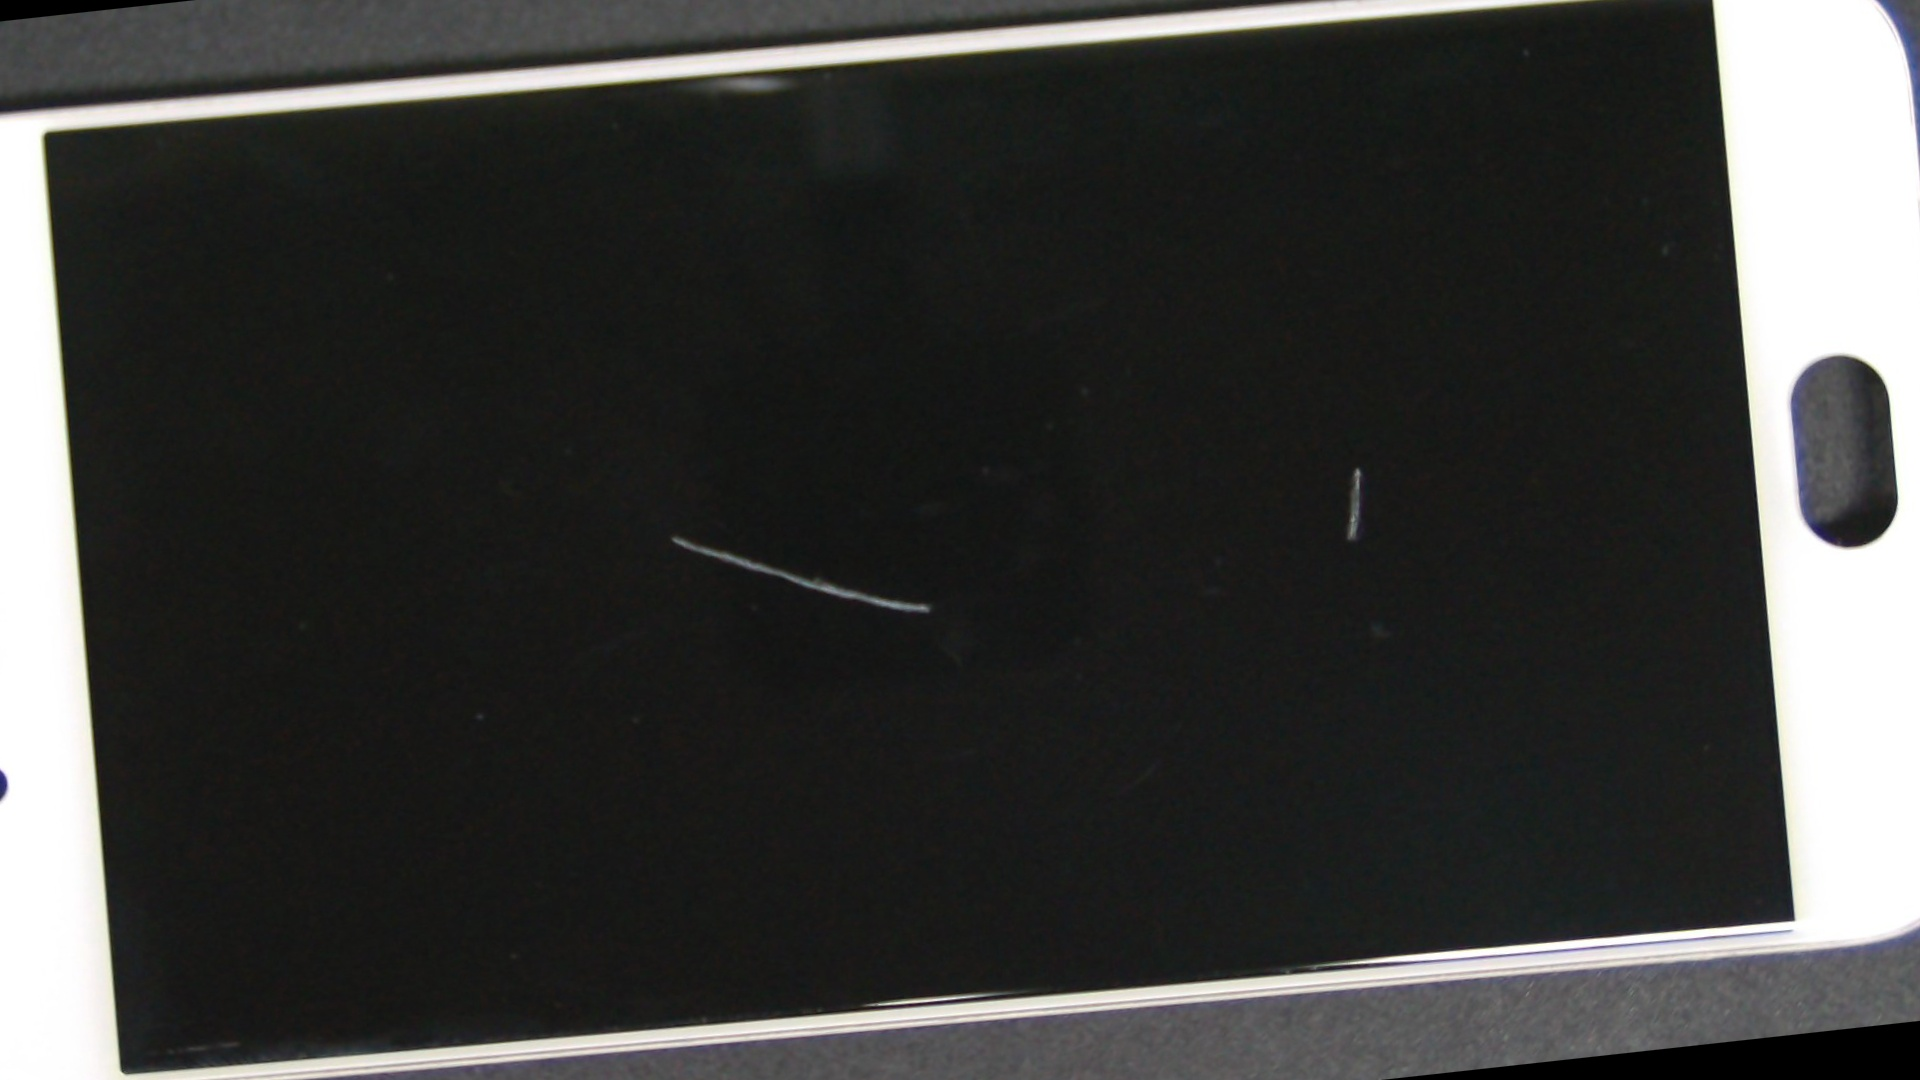oil: (566, 104, 1920, 845), (225, 198, 1130, 873)
